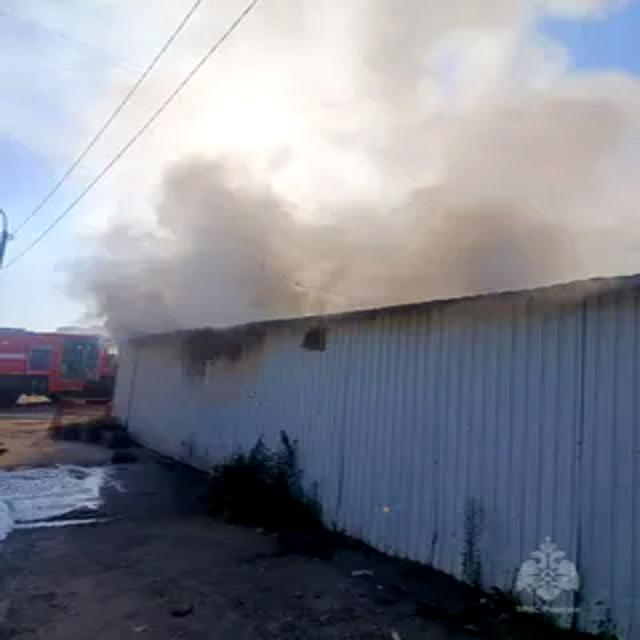Smoke: (61, 1, 640, 327)
